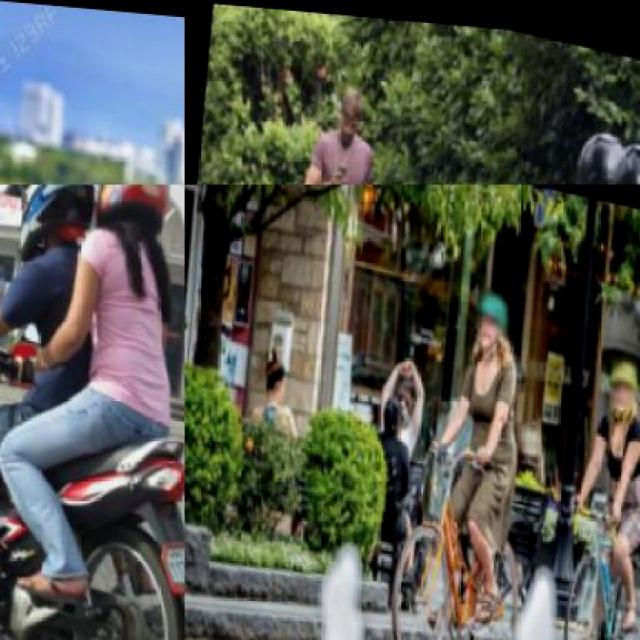With Helmet: (0, 184, 103, 258), (78, 184, 175, 242), (560, 112, 634, 183), (603, 341, 640, 404), (470, 277, 512, 332), (603, 120, 639, 183)
